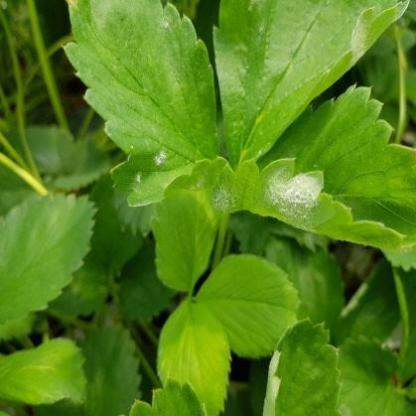Strawberry_Powdery_Mildew_Leaf: (210, 82, 415, 256), (60, 0, 229, 207), (213, 0, 412, 169), (262, 317, 344, 415)
